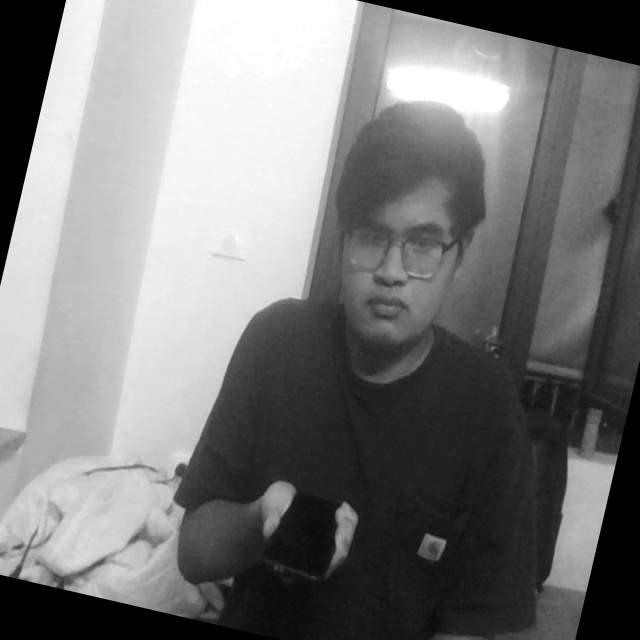phone: (246, 442, 370, 604)
